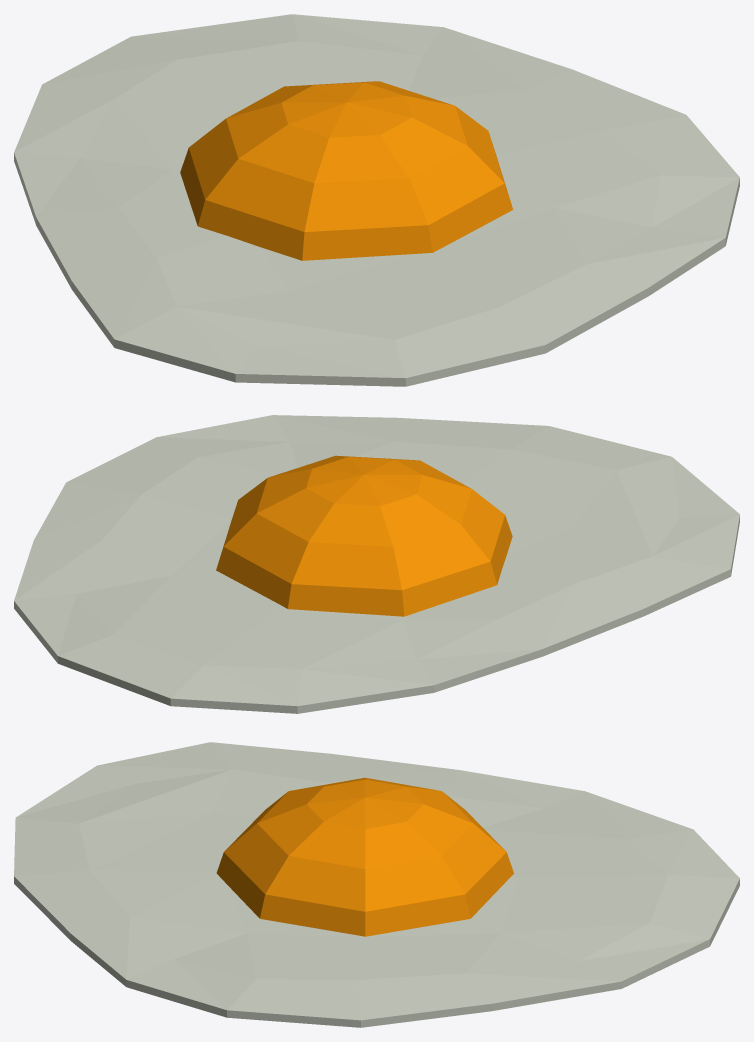
The model's file is eggSunnysideUp.gltf.
3 views of the same model, one above another, from view 1: azimuth 30°, elevation 25°; view 2: azimuth 150°, elevation 25°; view 3: azimuth 270°, elevation 25° (orthographic). The views are drawn at different scales.
Parts seen in each view (by area): view 1: node-0; view 2: node-0; view 3: node-0.
Boxes of the visible parts, <box> form: node-0: <box>14,14,739,386</box>; node-0: <box>14,415,739,713</box>; node-0: <box>14,742,739,1027</box>.
Size of the model in its own units: 3.53 by 0.541 by 3.89.
